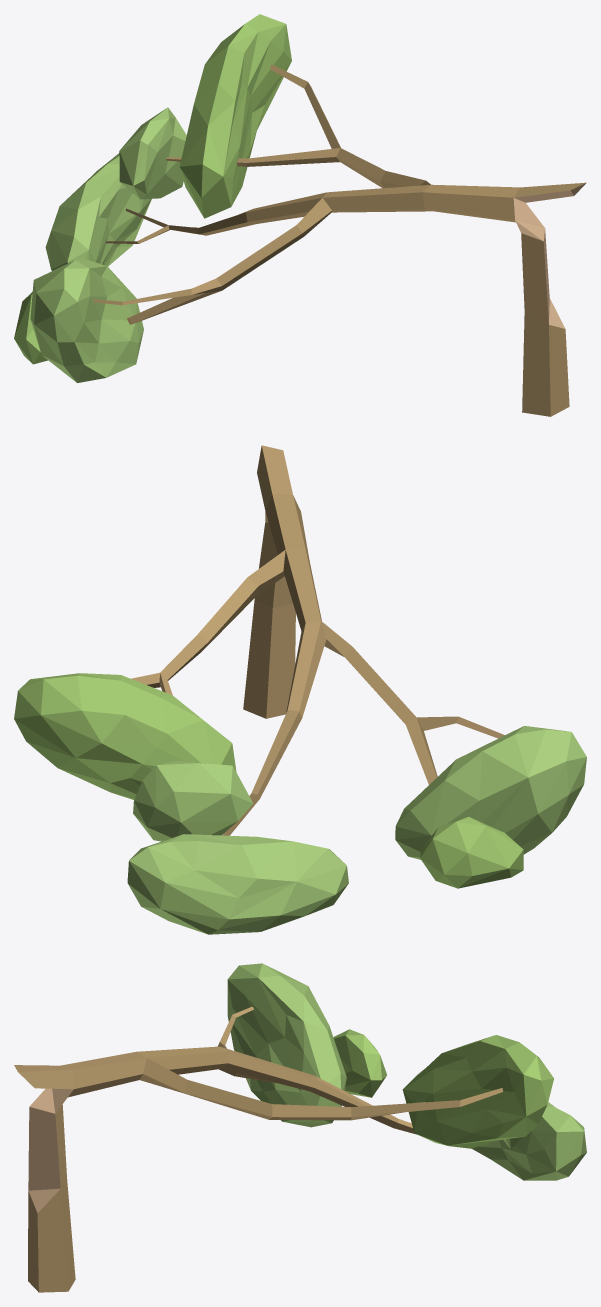
File: Acacia_Tree_crk_l_04.fbx
3 renders of one model, top to bottom at view 1: azimuth 30°, elevation 25°; view 2: azimuth 150°, elevation 25°; view 3: azimuth 270°, elevation 25°, orthographic. The views are drawn at different scales.
Visible parts, largest first — view 1: Acacia_Tree_crk_l_04; view 2: Acacia_Tree_crk_l_04; view 3: Acacia_Tree_crk_l_04.
Part boxes in pixels (x1,y1,x2,y2): Acacia_Tree_crk_l_04: (14,14,586,416); Acacia_Tree_crk_l_04: (14,445,586,934); Acacia_Tree_crk_l_04: (14,963,586,1292).
Bounding box in the file's own units: 688 × 358 × 832.
